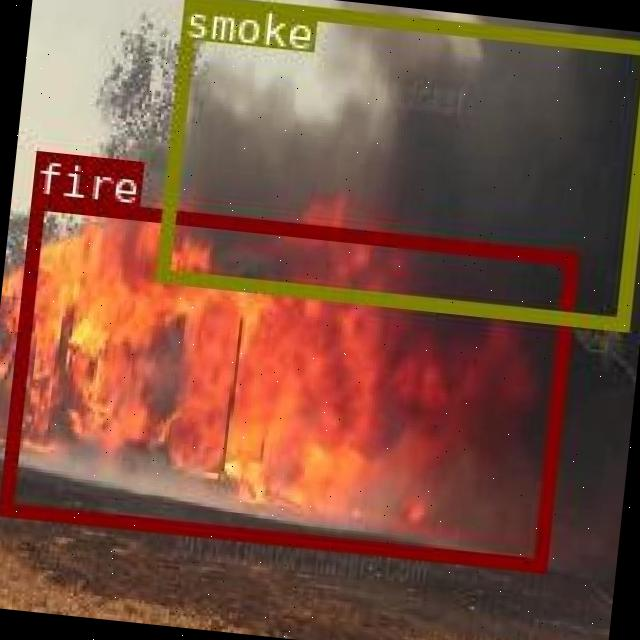fire: (0, 192, 574, 567)
smoke: (154, 0, 640, 327)
